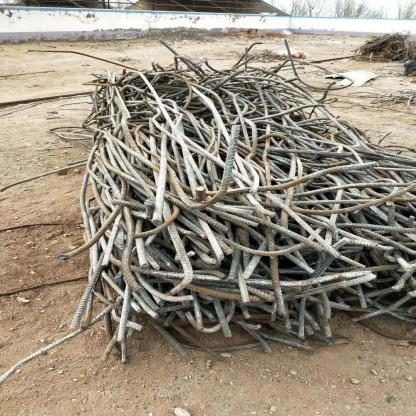rebar: (78, 65, 416, 354)
